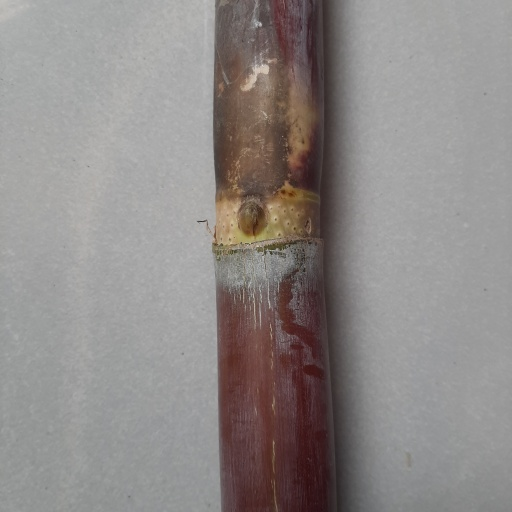Bud: (236, 200, 269, 238)
